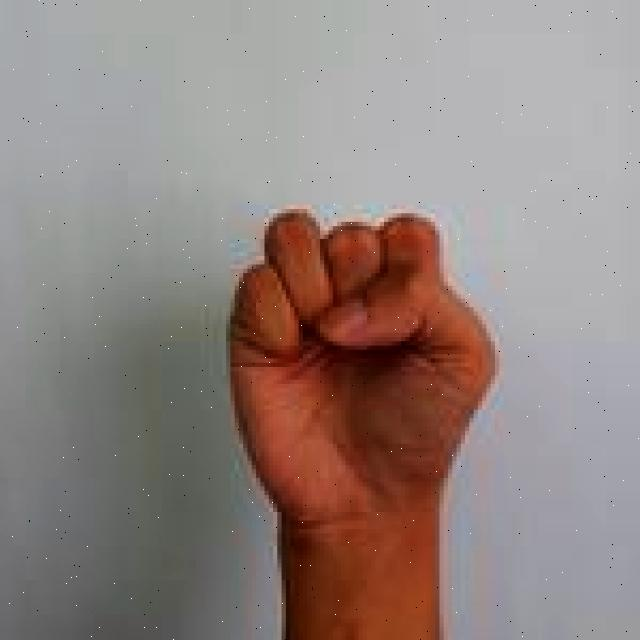S: (221, 198, 502, 640)
